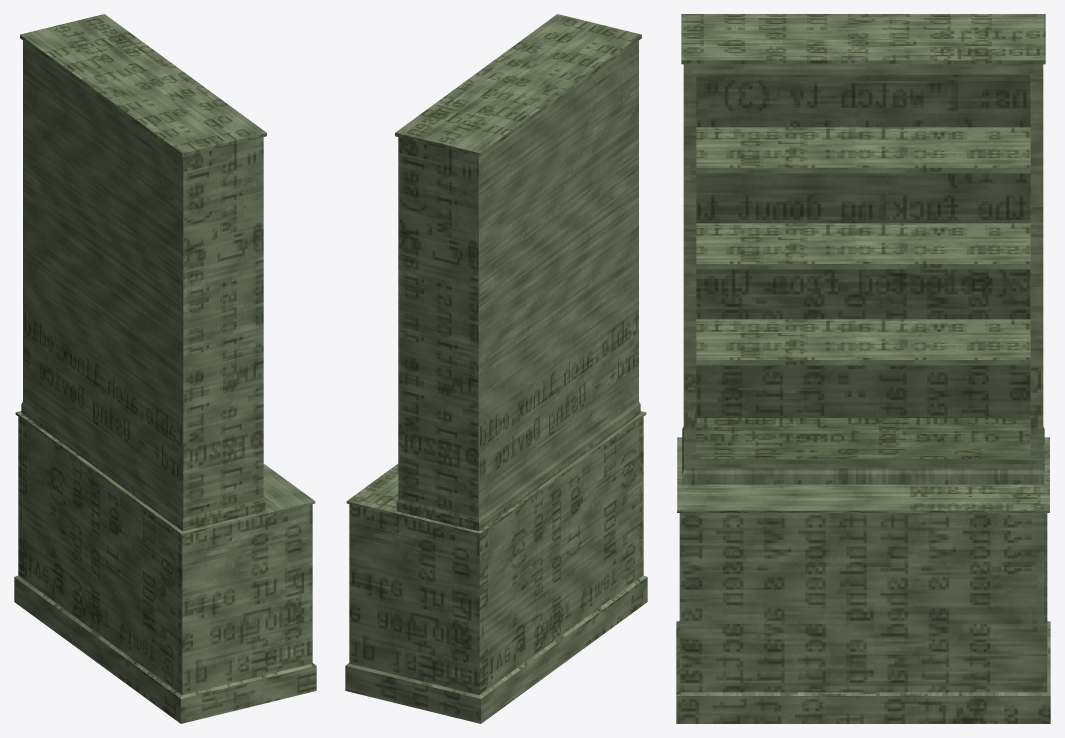
Rendered from the_shelf.glb.
3 views of the same model, side by side, from view 1: azimuth 30°, elevation 25°; view 2: azimuth 150°, elevation 25°; view 3: azimuth 270°, elevation 25° (orthographic). The views are drawn at different scales.
Parts seen in each view (by area): view 1: Cube_cupboard Material_0; view 2: Cube_cupboard Material_0; view 3: Cube_cupboard Material_0.
Boxes of the visible parts, bbox=[...] form: Cube_cupboard Material_0: bbox=[14, 14, 316, 723]; Cube_cupboard Material_0: bbox=[345, 14, 647, 723]; Cube_cupboard Material_0: bbox=[676, 14, 1050, 723].
Bounding box in the file's own units: 1.26 × 5.05 × 2.69.
1 material, 1 textured.
